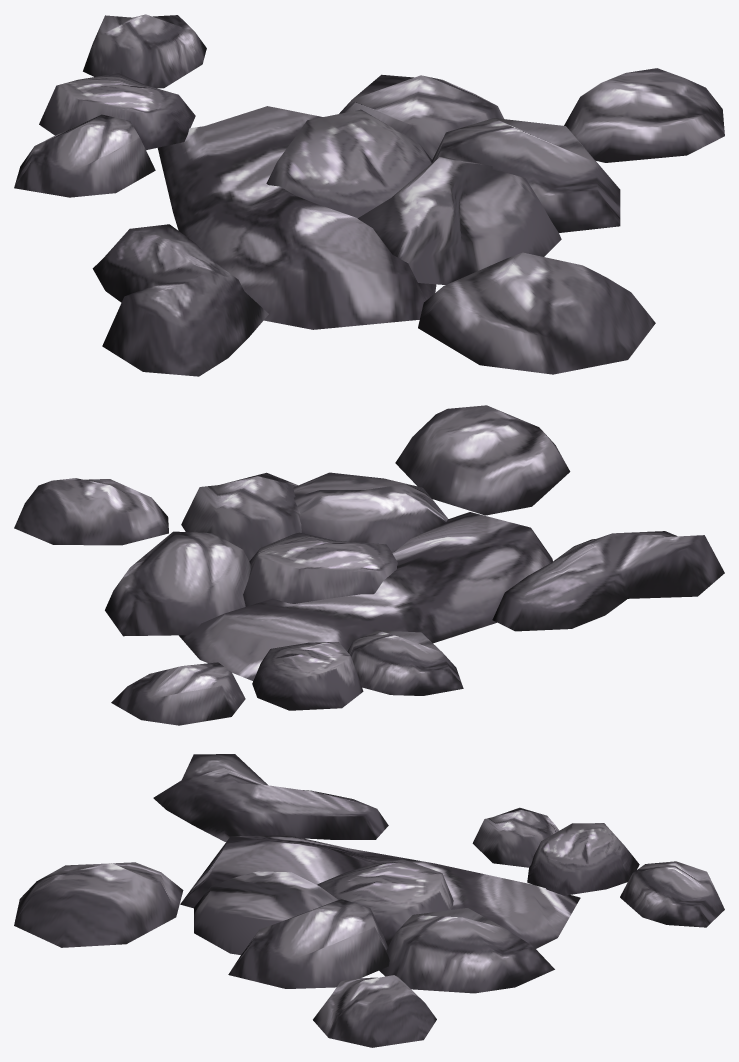
Rendered from RockCluster1.fbx.
The picture shows the model from 3 angles, top to bottom: view 1: azimuth 30°, elevation 25°; view 2: azimuth 150°, elevation 25°; view 3: azimuth 270°, elevation 25°; orthographic projection. The views are drawn at different scales.
Visible parts, largest first — view 1: pCube10; view 2: pCube10; view 3: pCube10.
Boxes of the visible parts, bbox=[...] form: pCube10: bbox=[14, 14, 724, 376]; pCube10: bbox=[14, 405, 724, 725]; pCube10: bbox=[14, 754, 724, 1047].
Bounding box in the file's own units: 13.13 × 1.4 × 14.81.
